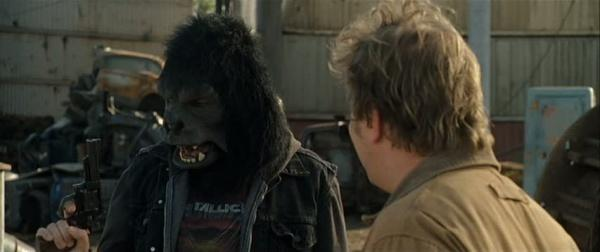Gun: (31, 138, 108, 252)
